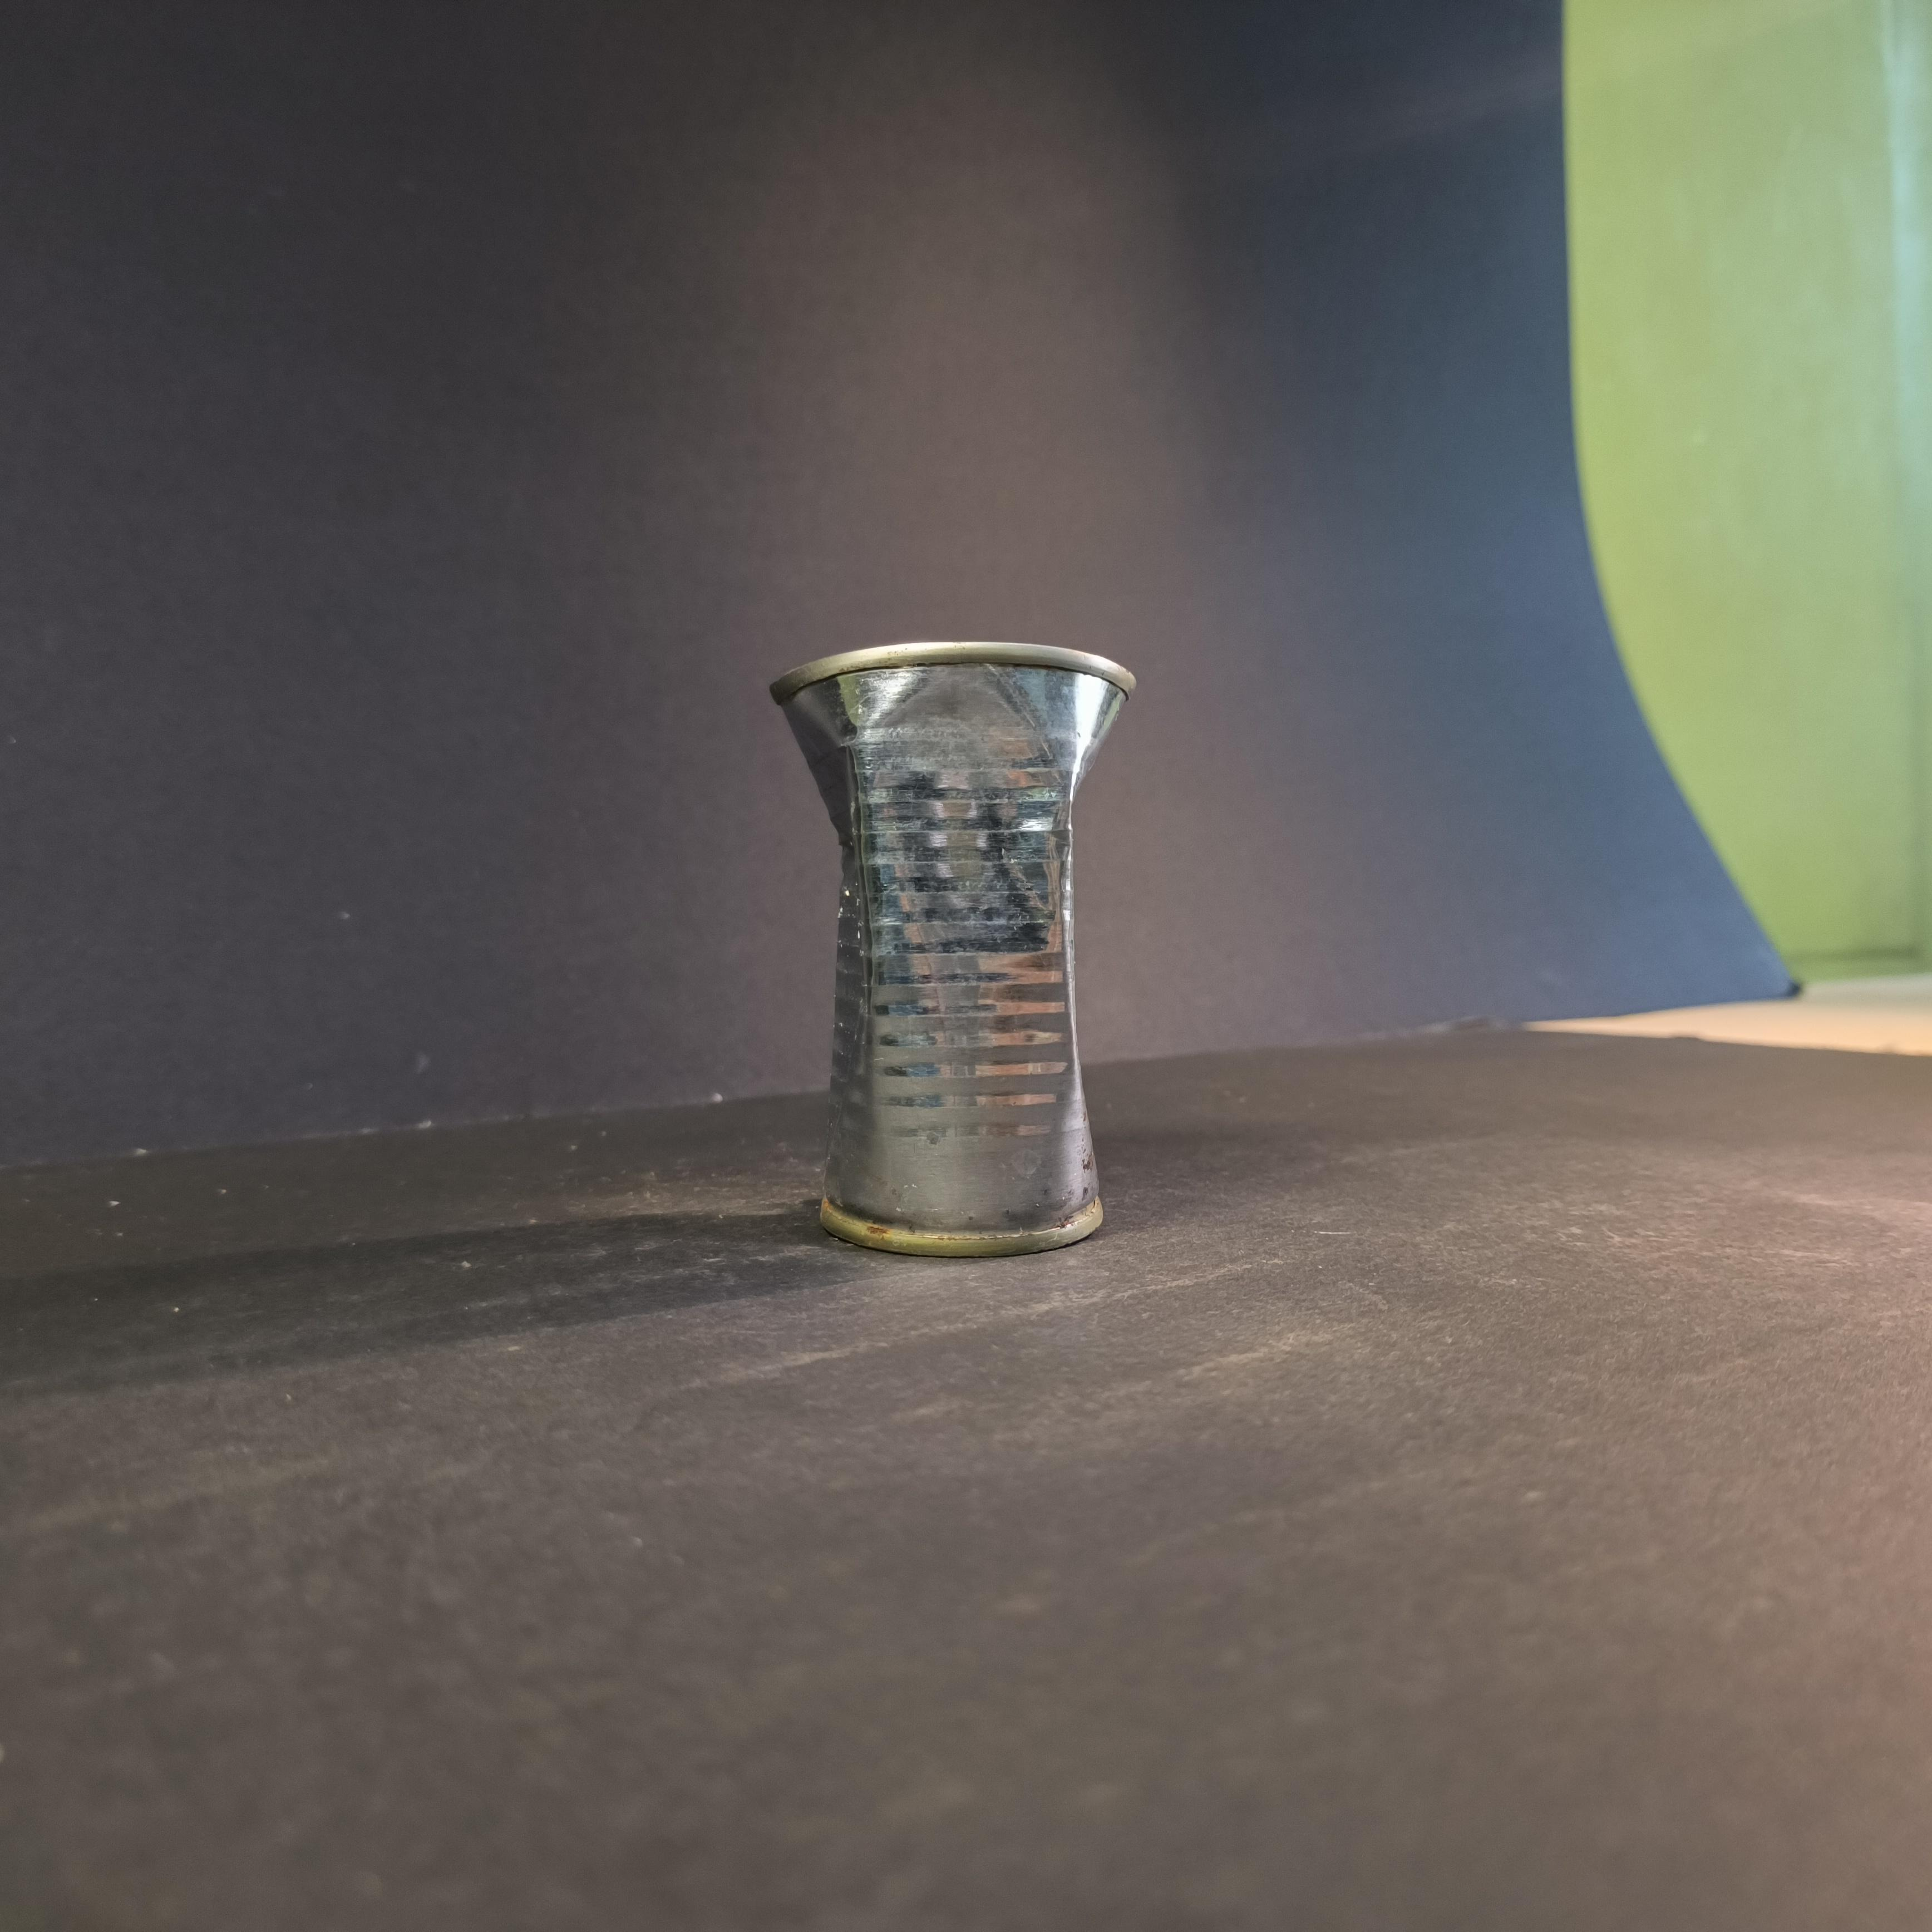Dented: (748, 603, 1157, 1267)
